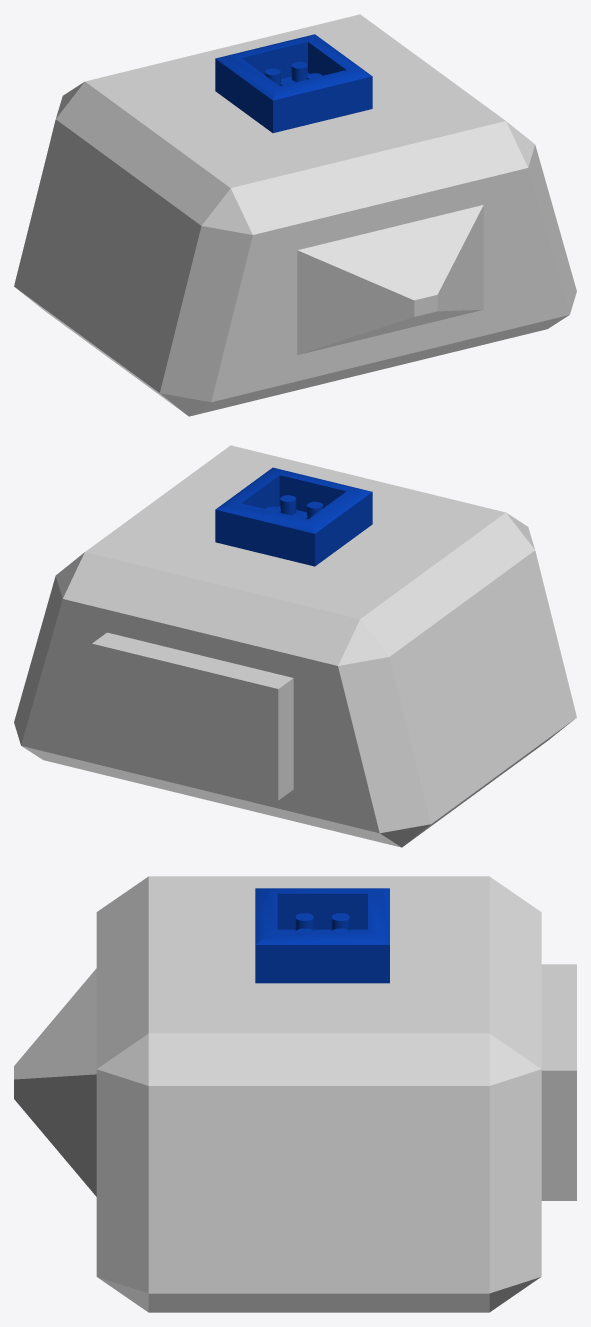
The model's file is LinearVelocitySensor.gltf.
The picture shows the model from 3 angles, top to bottom: view 1: azimuth 30°, elevation 25°; view 2: azimuth 150°, elevation 25°; view 3: azimuth 270°, elevation 25°; orthographic projection. The views are drawn at different scales.
Visible parts, largest first — view 1: body; view 2: body; view 3: body.
Part boxes in pixels (x1,y1,x2,y2): body: (14,14,576,416); body: (14,445,576,847); body: (14,876,576,1312).
Bounding box in the file's own units: 0.25 × 0.1456 × 0.2498.
